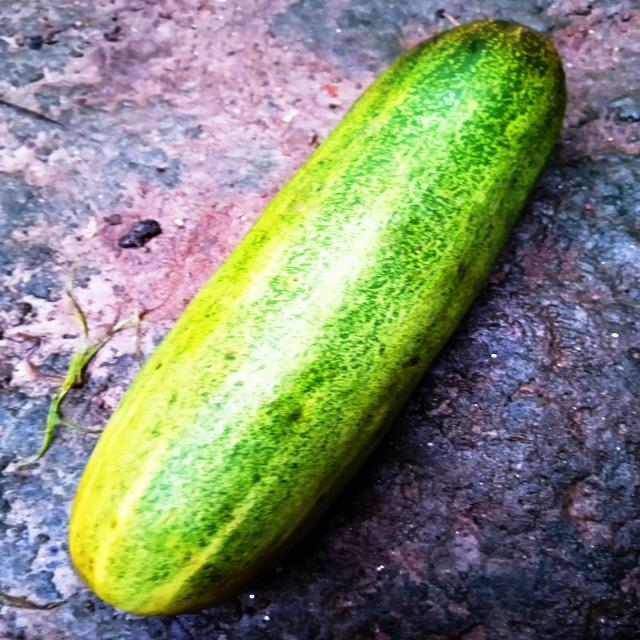Fresh-Cucumber: (65, 16, 569, 624)
